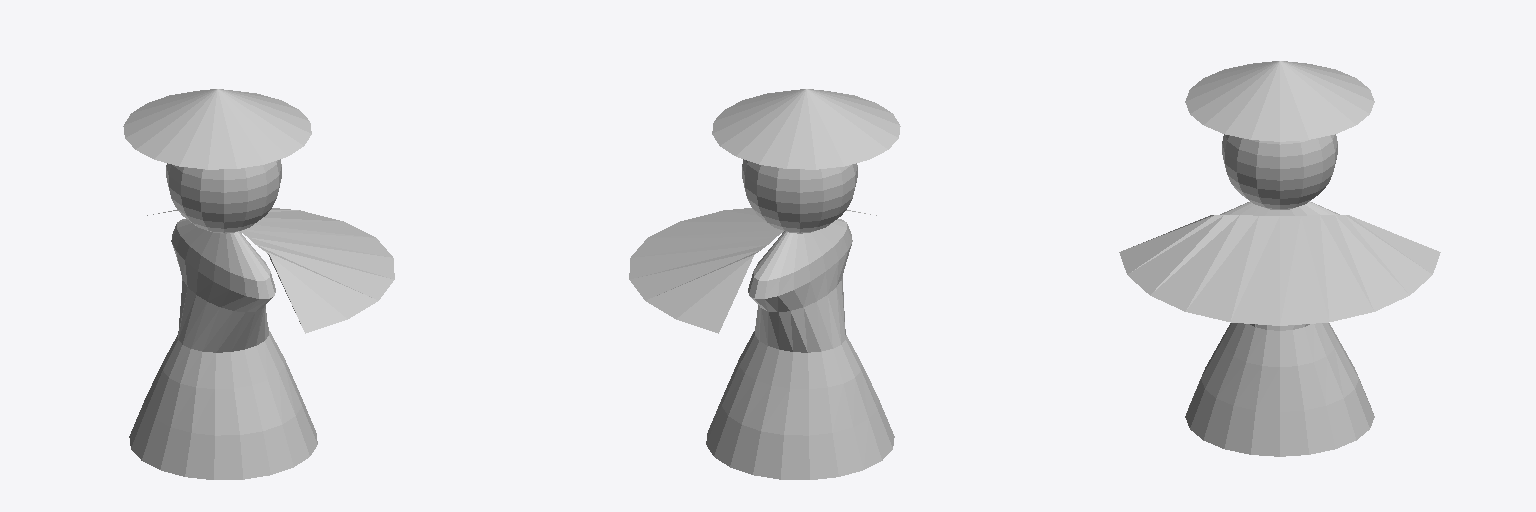
Rendered from person.obj.
The picture shows the model from 3 angles: view 1: azimuth 30°, elevation 25°; view 2: azimuth 150°, elevation 25°; view 3: azimuth 270°, elevation 25°; orthographic projection.
Visible parts, largest first — view 1: pCone1, pCone2, pCone3, pSphere1; view 2: pCone1, pCone2, pCone3, pSphere1; view 3: pCone3, pCone1, pCone2, pSphere1.
Part boxes in pixels (x1,y1,x2,y2): pCone1: (129, 219, 317, 479); pCone2: (123, 89, 311, 169); pCone3: (147, 208, 394, 333); pSphere1: (166, 159, 281, 233); pCone1: (706, 219, 894, 479); pCone2: (712, 89, 900, 169); pCone3: (629, 208, 876, 333); pSphere1: (742, 159, 857, 233); pCone3: (1119, 215, 1440, 325); pCone1: (1185, 201, 1374, 456); pCone2: (1185, 61, 1374, 141); pSphere1: (1222, 134, 1337, 209).
Size of the model in its own units: 2.93 by 4.11 by 3.39.